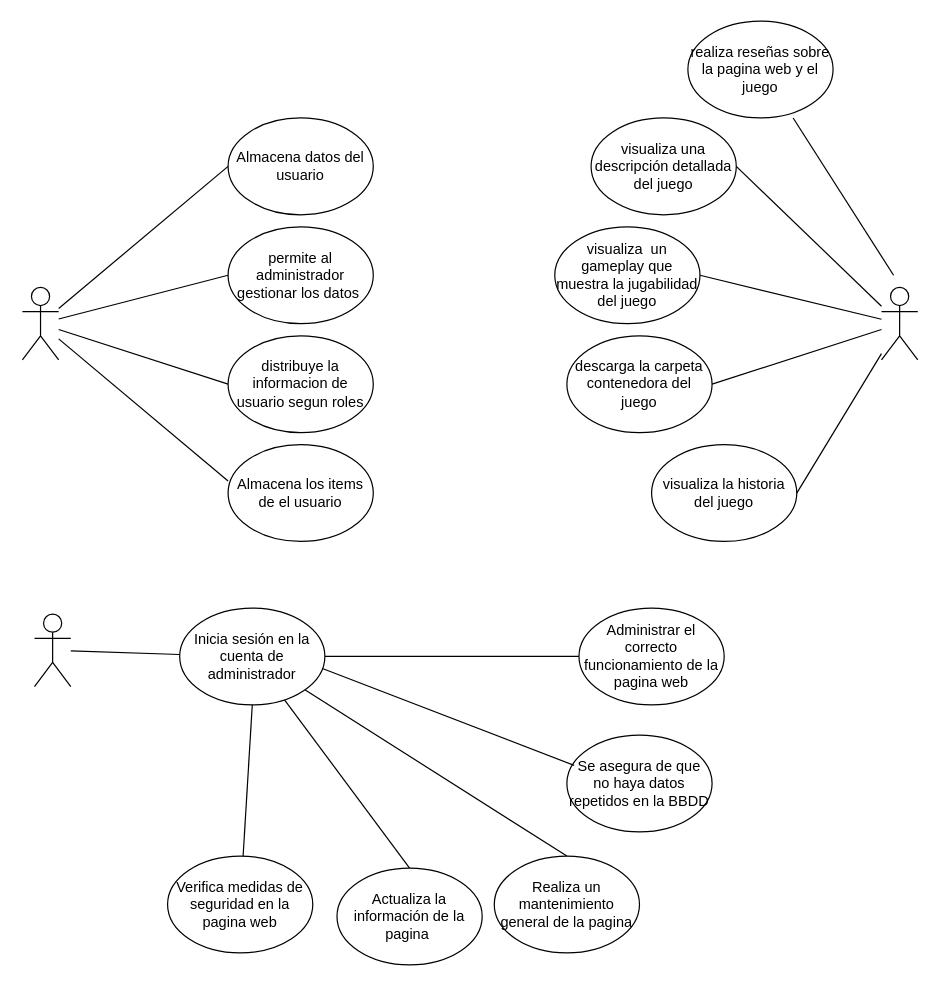
The diagram is 945 pixels wide and 986 high, and some of its shapes have lost their labels. Here are the shapes that lost their labels. From the top down, the box of each, then its label:
(21, 286, 59, 360): BBDD
(880, 286, 918, 360): Usuario
(33, 613, 71, 687): Admin
